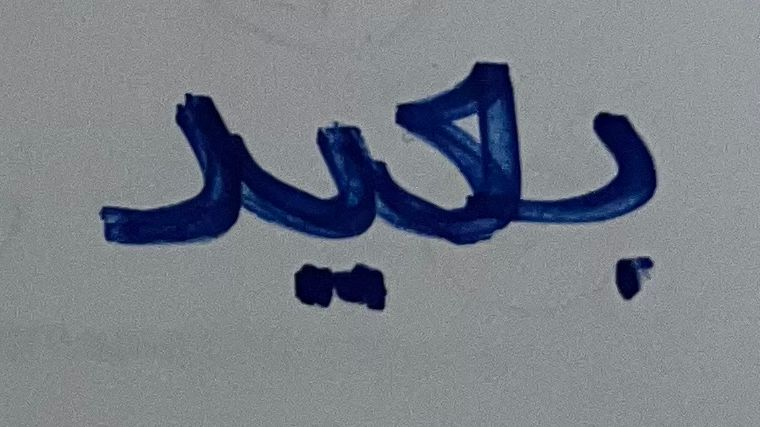dal: (92, 72, 243, 269)
yeh: (535, 73, 688, 319), (246, 91, 387, 322)
zah: (391, 33, 530, 256)
